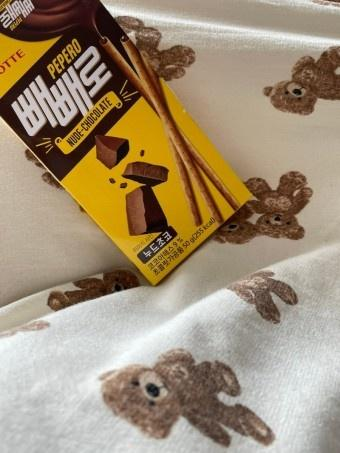snack: (0, 0, 256, 289)
